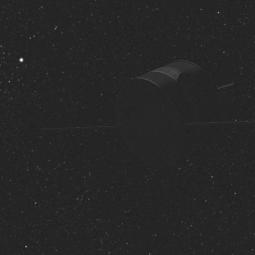double_start: (92, 51, 243, 177)
